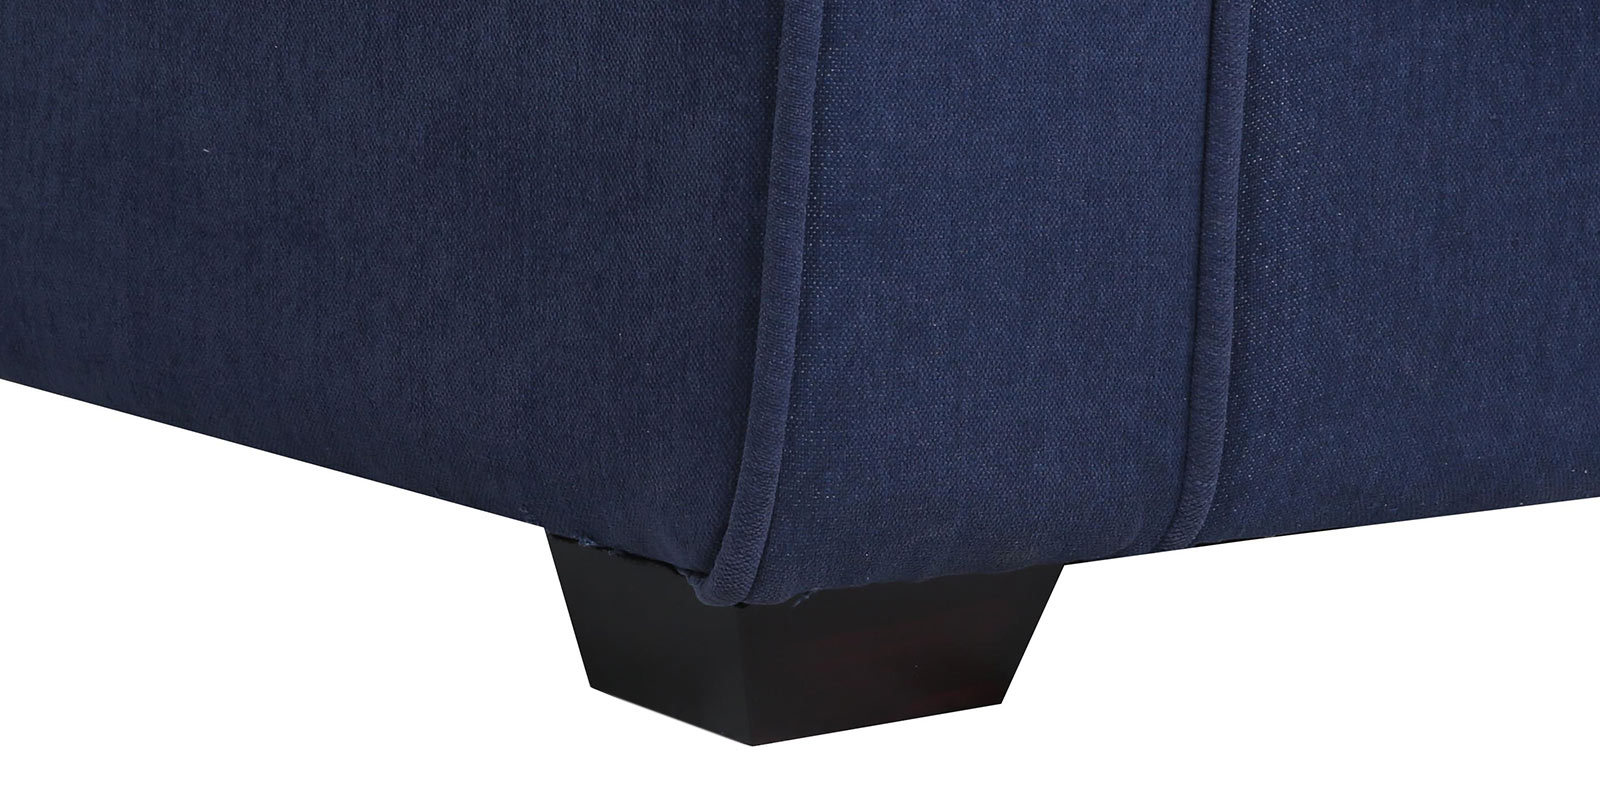Hugo Three Seater Sofa in Navy Blue Colour by CasaCraft: (5, 1, 1599, 761)
